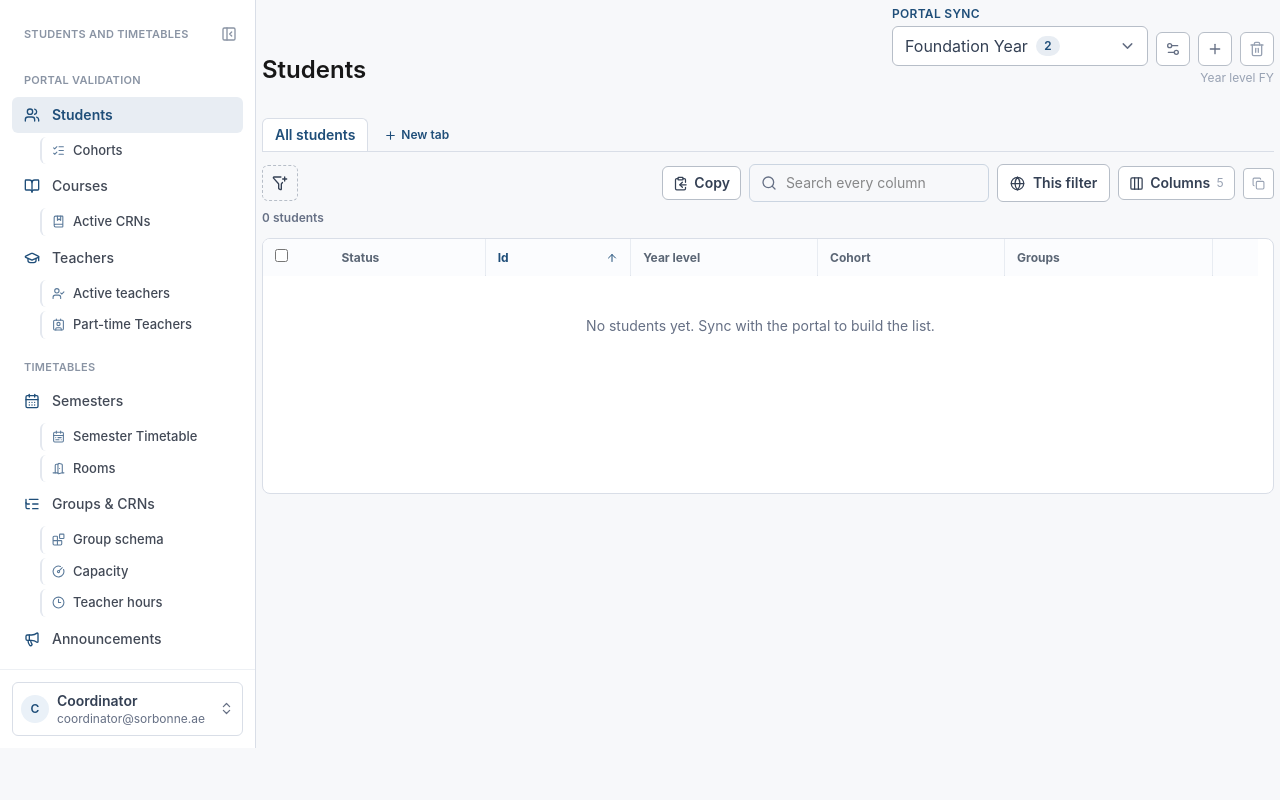
Scenario: changing view › asks the server once per view, and not again on the way back
Step 1. Click the dropdown named "View" → (1020, 46), box [892,26,1148,66]
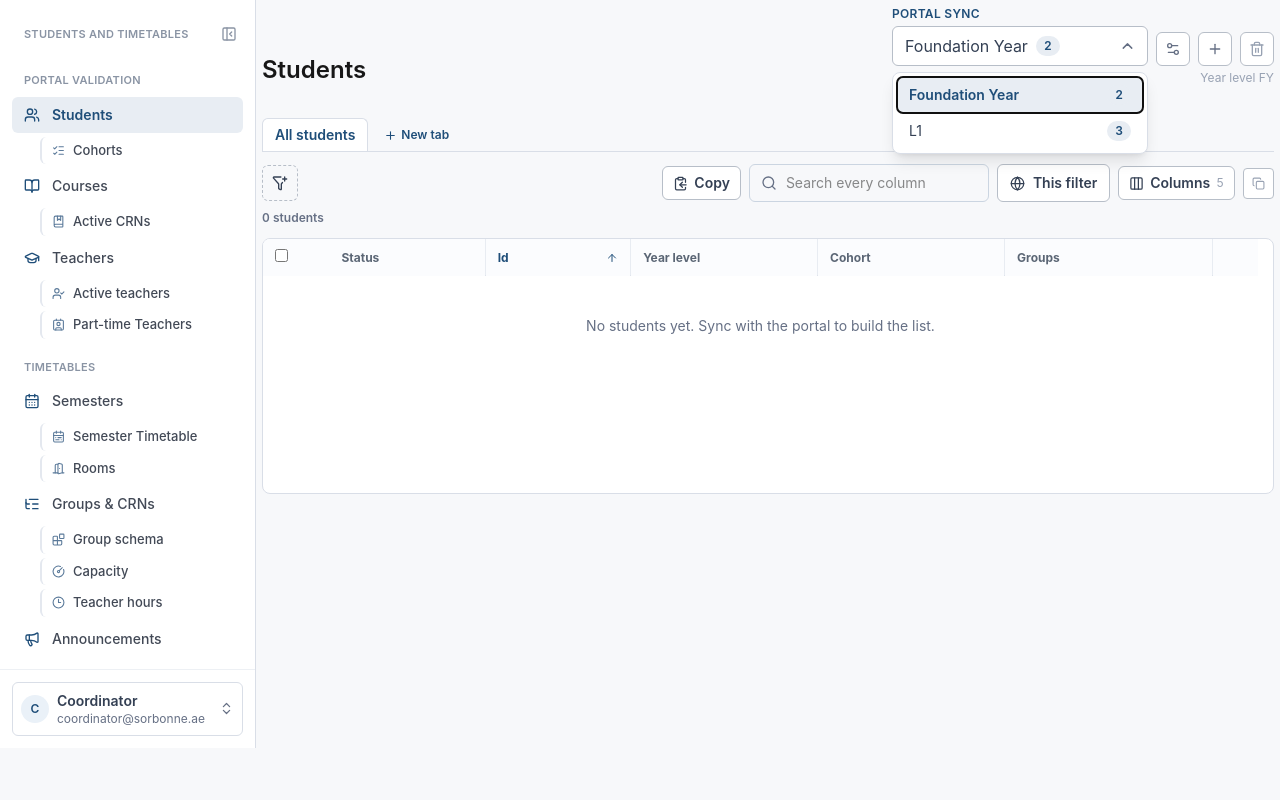
Step 2. Click the option "L1 3" → (1020, 131), box [897,113,1143,149]
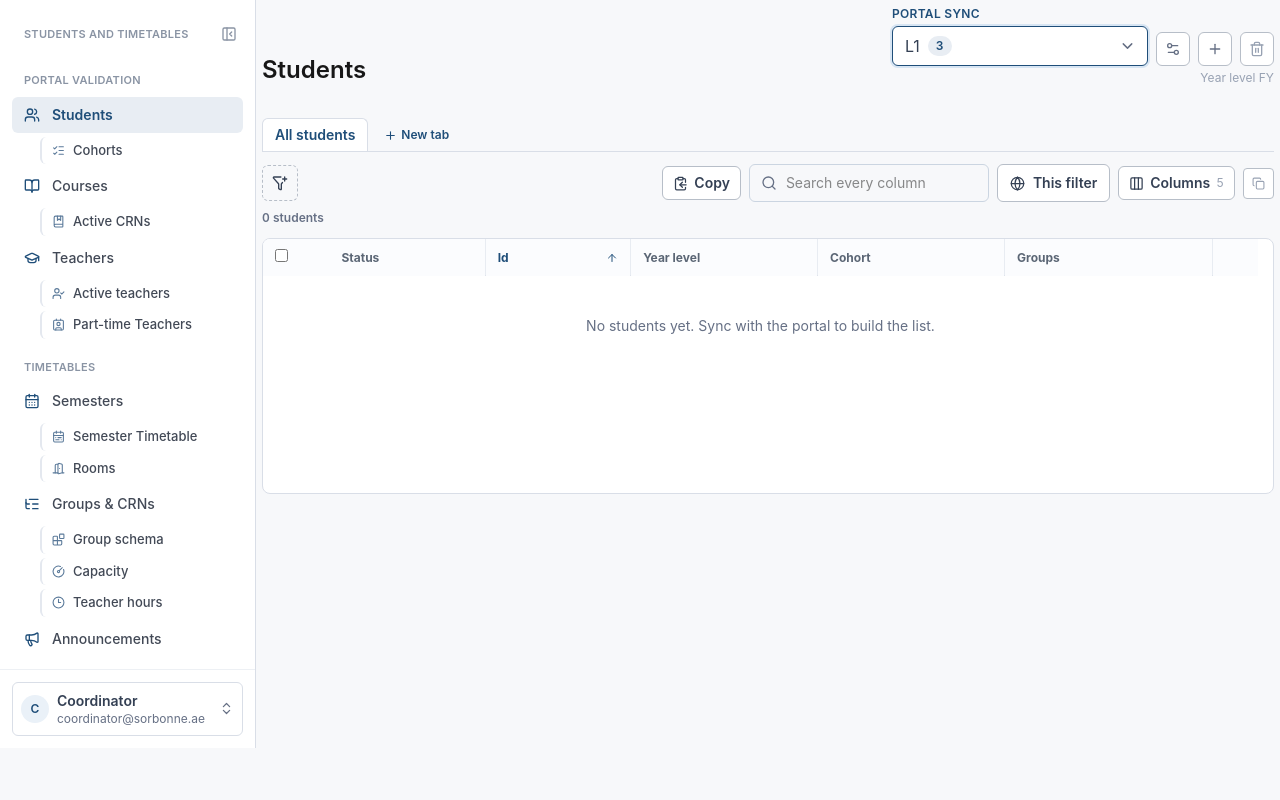
Step 3. Click the dropdown named "View" → (1020, 46), box [892,26,1148,66]
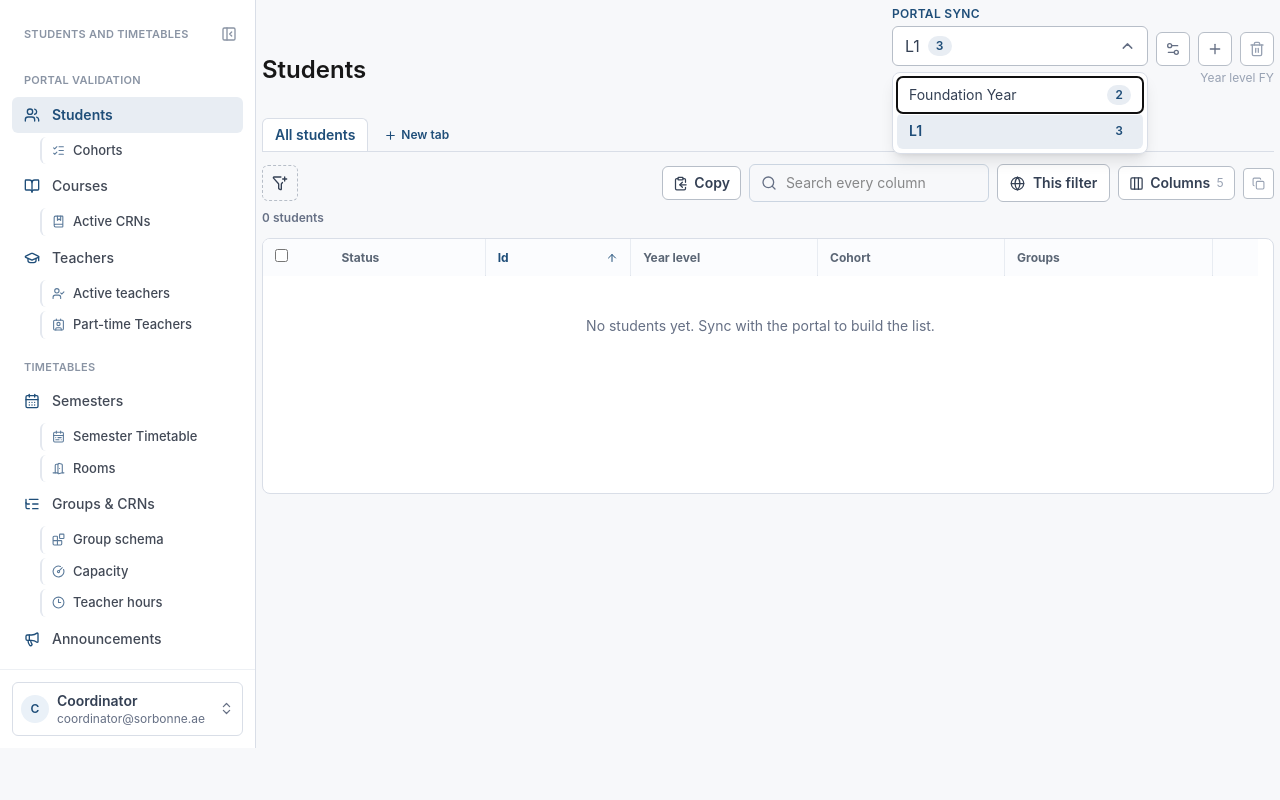
Step 4. Click the option "Foundation Year 2" → (1020, 95), box [897,77,1143,113]
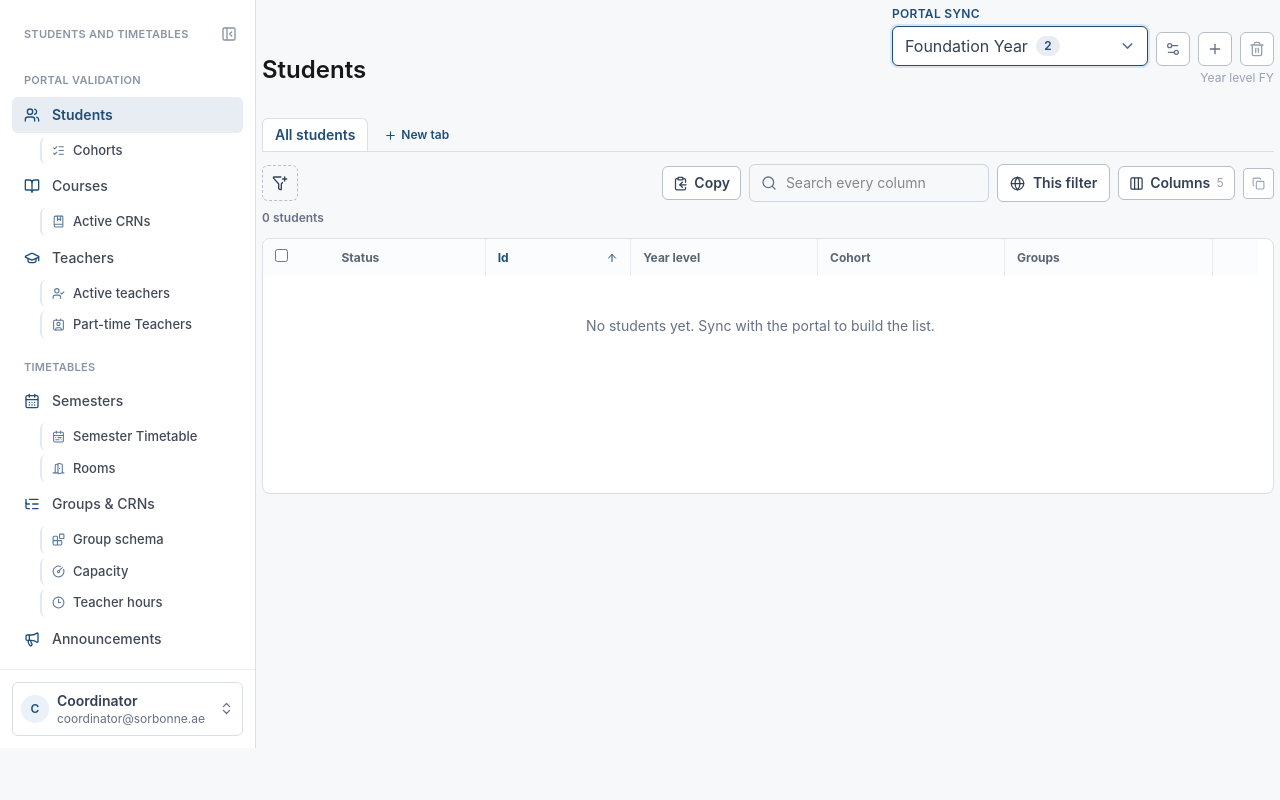
Check: the dropdown named "View" shows "Foundation Year", box [892,26,1148,66]
